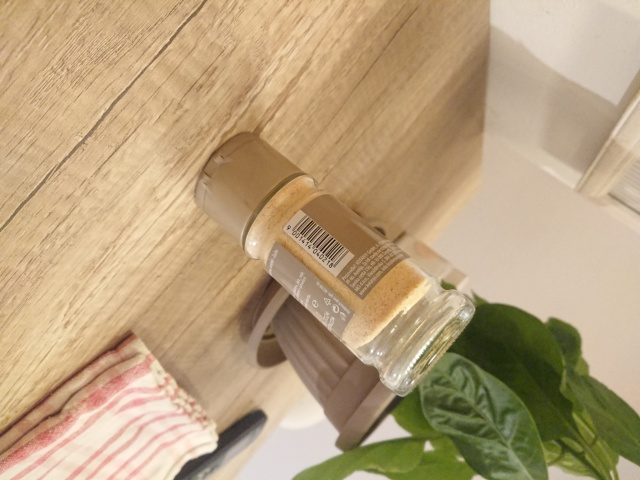Kotanyi Garlic Granules 70g: (190, 129, 478, 399)
